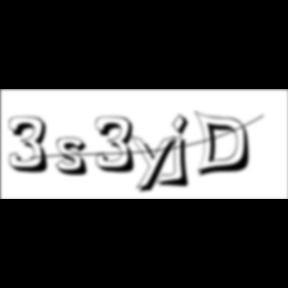3: (9, 116, 55, 176), (96, 116, 142, 176)
D: (194, 110, 256, 180)
j: (170, 113, 196, 191)
s: (57, 137, 96, 179)
y: (129, 132, 183, 196)
